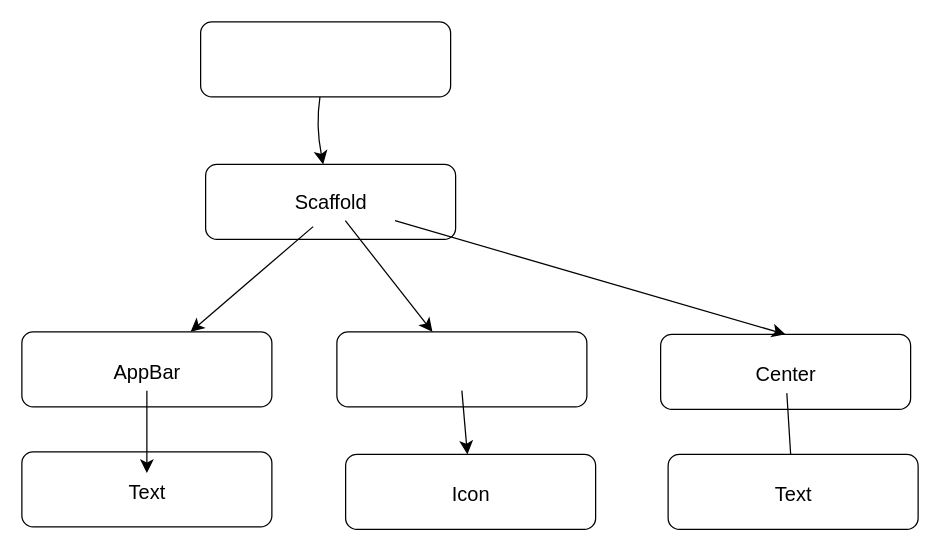
Image size: 940x551. Some labels were removed from this diagram. The shapes that lost their labels are listed below. From the top down, each one's box as (x1, y1, x2, y2) in pixels, then its label:
(199, 21, 451, 97): Material App
(336, 331, 587, 407): FloatingActionButton
